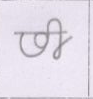i_matra: (49, 18, 66, 58)
